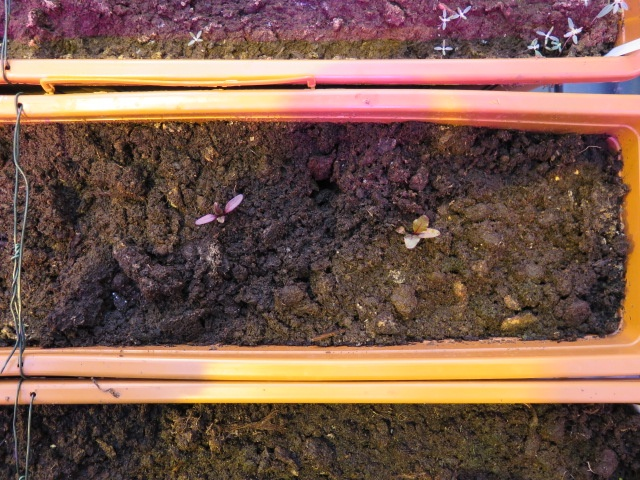crop: (387, 211, 446, 252), (191, 189, 250, 229)
weed: (431, 35, 456, 59), (182, 26, 205, 49)
